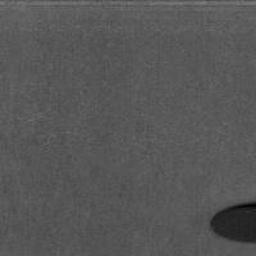Punching: (210, 202, 256, 244)
